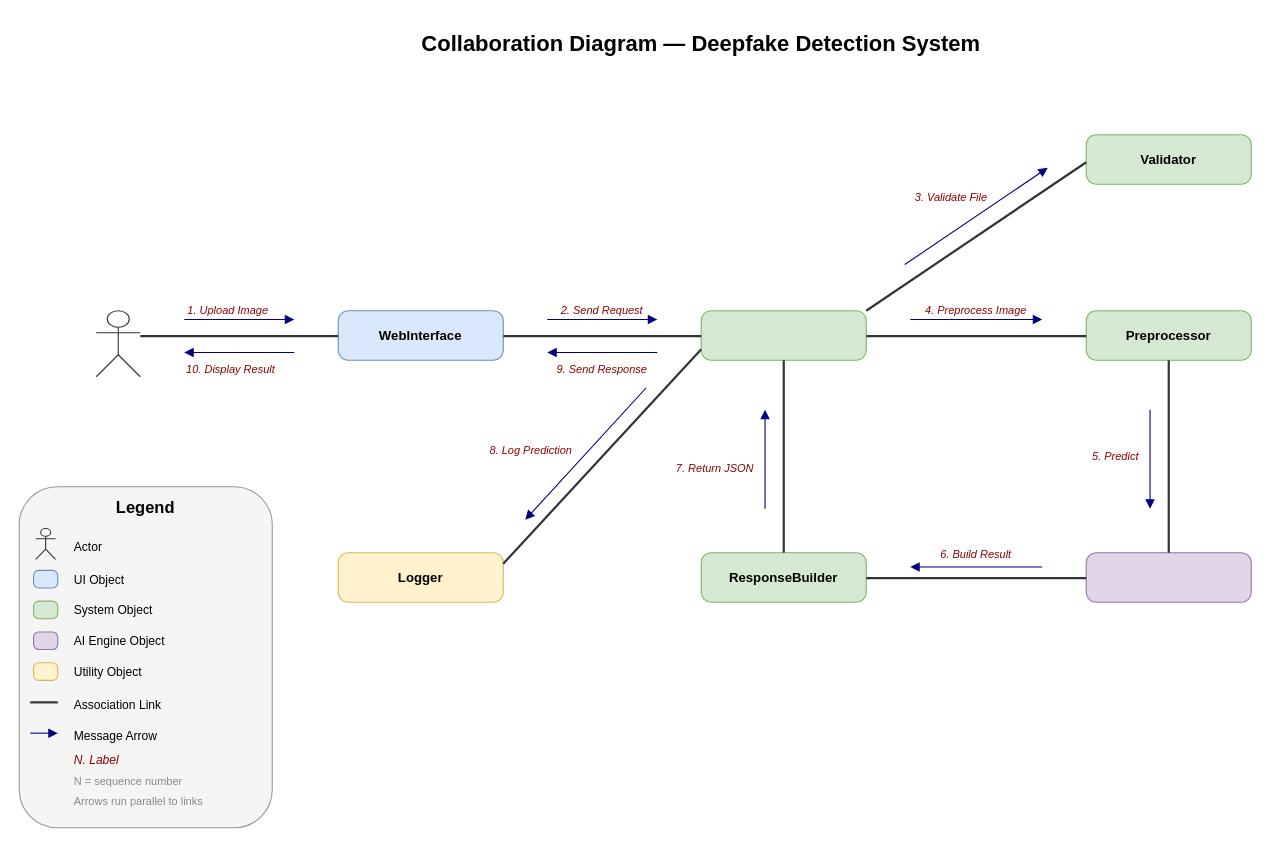
The diagram is 1271 pixels wide and 847 high, and some of its shapes have lost their labels. The shapes that lost their labels are listed below. From the top down, each one's box as (x1, y1, x2, y2) in pixels, then its label:
(95, 310, 140, 377): :User
(700, 310, 866, 360): APIServer
(1085, 552, 1251, 602): AIModel
